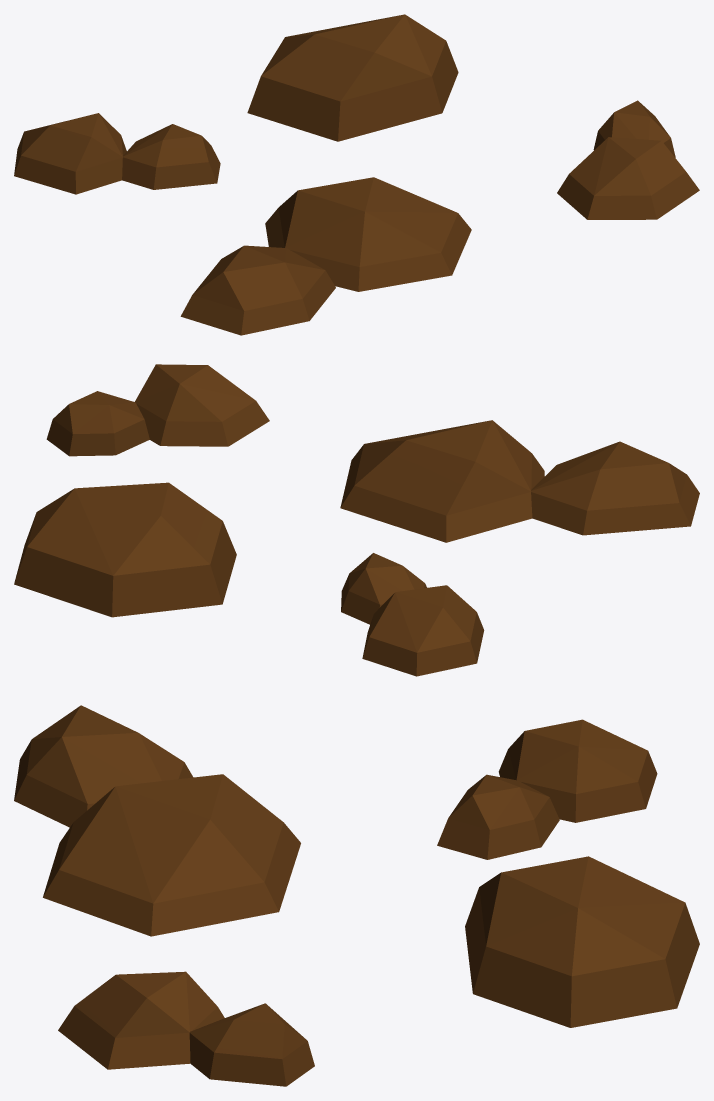
Rendered from rock__pebbles1_dirt_dark.glb.
The picture shows the model from 3 angles, top to bottom: view 1: azimuth 30°, elevation 25°; view 2: azimuth 150°, elevation 25°; view 3: azimuth 270°, elevation 25°; orthographic projection. The views are drawn at different scales.
Parts seen in each view (by area): view 1: pebbles1.dirt.dark; view 2: pebbles1.dirt.dark; view 3: pebbles1.dirt.dark.
Part boxes in pixels (box(x1,y1,x2,y2)): pebbles1.dirt.dark: box(14, 14, 699, 335); pebbles1.dirt.dark: box(14, 364, 699, 676); pebbles1.dirt.dark: box(14, 705, 699, 1086).
Bounding box in the file's own units: 1.96 × 0.241 × 1.65.
1 material, 1 textured.
